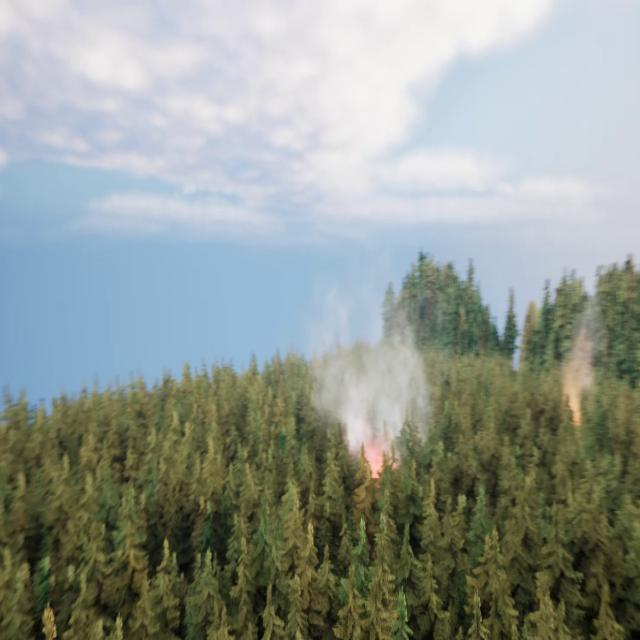fire: (363, 438, 397, 486)
smoke: (302, 284, 429, 460), (562, 323, 597, 428)
